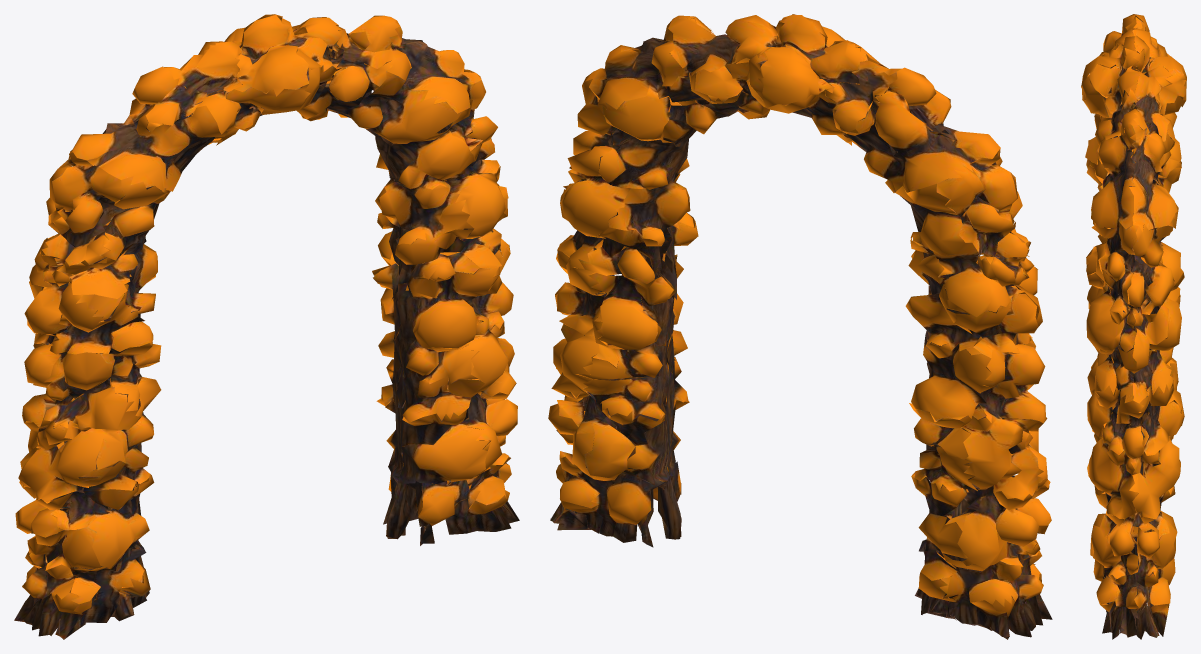
Rendered from ofrenda_arch.glb.
The picture shows the model from 3 angles, left to right: view 1: azimuth 30°, elevation 25°; view 2: azimuth 150°, elevation 25°; view 3: azimuth 270°, elevation 25°; orthographic projection. The views are drawn at different scales.
Visible parts, largest first — view 1: ofrenda_arch; view 2: ofrenda_arch; view 3: ofrenda_arch.
Boxes of the visible parts, x1,y1,x2,y2 form: ofrenda_arch: (14,14,519,639); ofrenda_arch: (548,14,1052,639); ofrenda_arch: (1081,14,1186,639).
Size of the model in its own units: 2.41 by 2.61 by 0.4994.
1 material, 1 textured.
